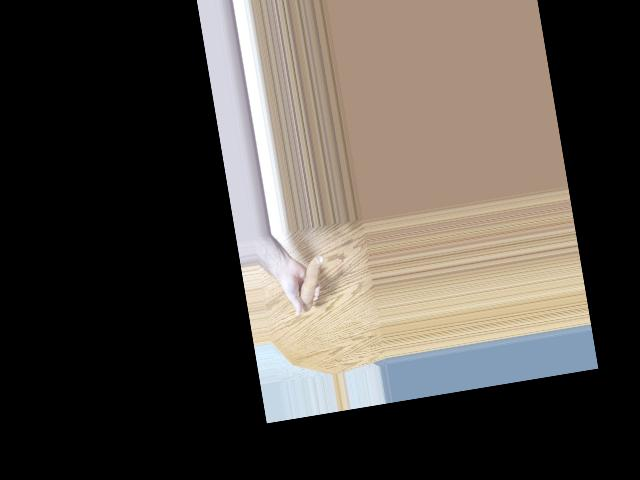sweet_potato: (292, 252, 330, 310)
